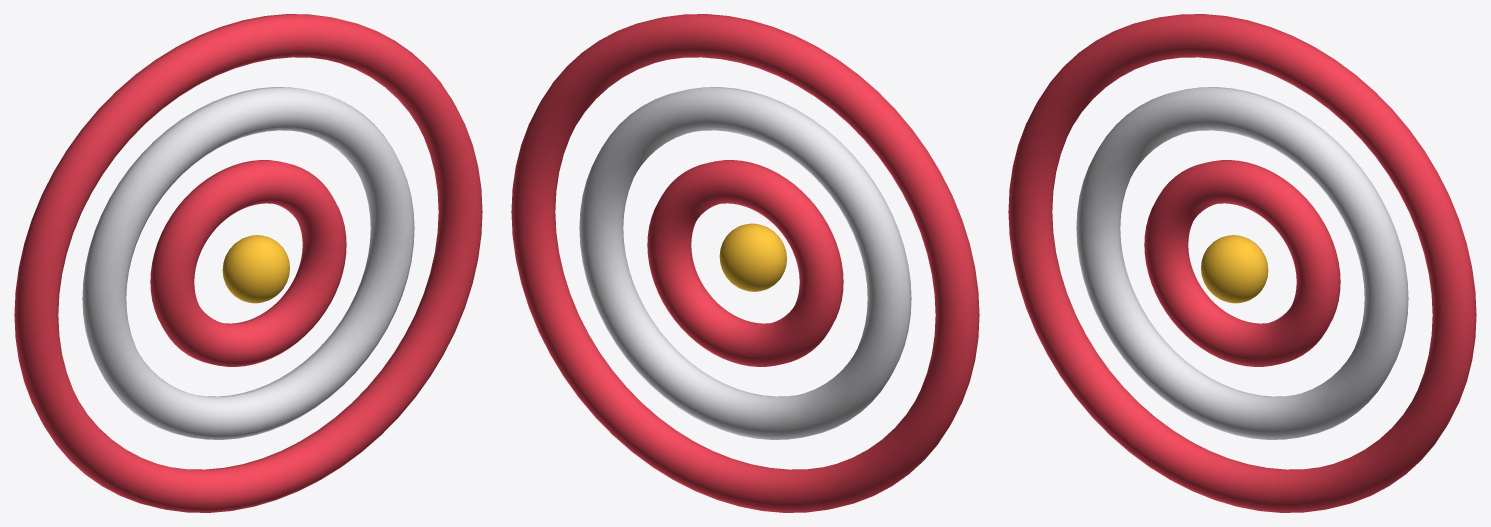
Rendered from SM_CallersChoice.fbx.
3 renders of one model, left to right at view 1: azimuth 30°, elevation 25°; view 2: azimuth 150°, elevation 25°; view 3: azimuth 330°, elevation 25°, orthographic.
Parts seen in each view (by area): view 1: SM_CallersChoice; view 2: SM_CallersChoice; view 3: SM_CallersChoice.
Boxes of the visible parts, x1,y1,x2,y2 form: SM_CallersChoice: [14, 14, 482, 512]; SM_CallersChoice: [511, 14, 979, 512]; SM_CallersChoice: [1008, 14, 1476, 512].
Bounding box in the file's own units: 1.29 × 10 × 10.
